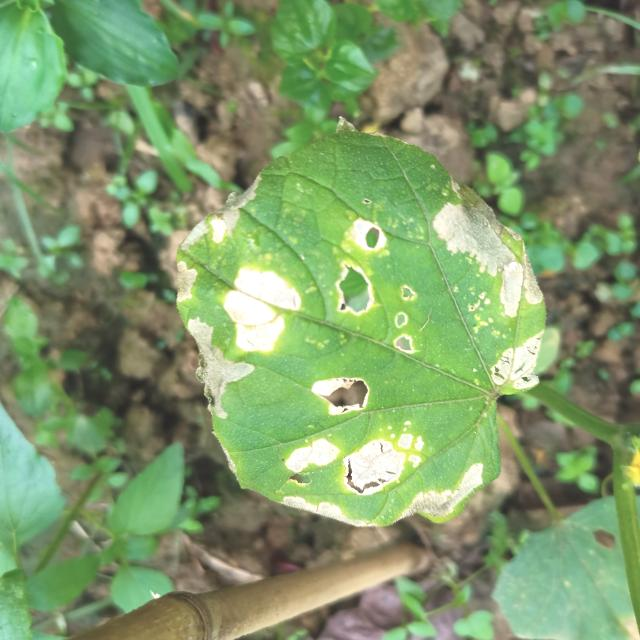disease_cucumber: (163, 170, 428, 418), (272, 374, 498, 540), (429, 147, 565, 396)
